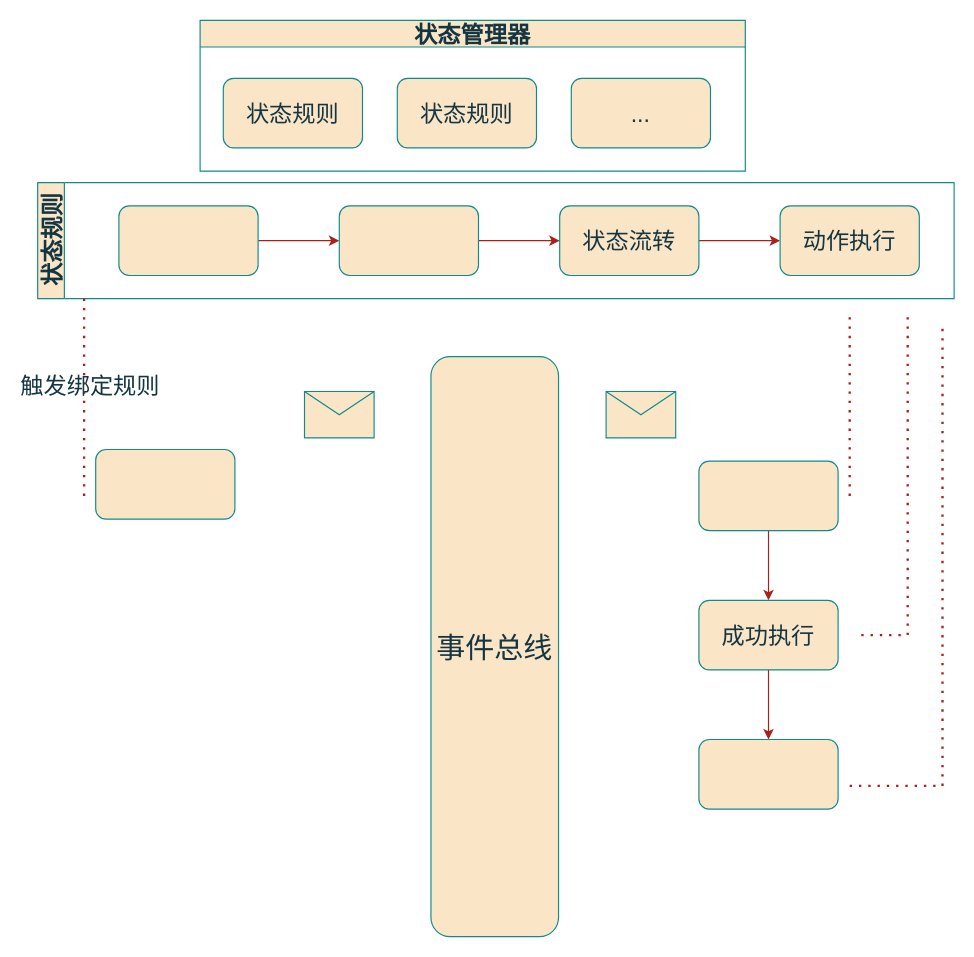
Image size: 974x957. Some labels were removed from this diagram. The centre of each missing label's shape, as x and y in pixels:
"事件发布" goes at point 165,483.
"事件执行" goes at point 768,495.
"定义事件" goes at point 188,240.
"执行失败" goes at point 768,773.
"触发阶段" goes at point 408,240.
